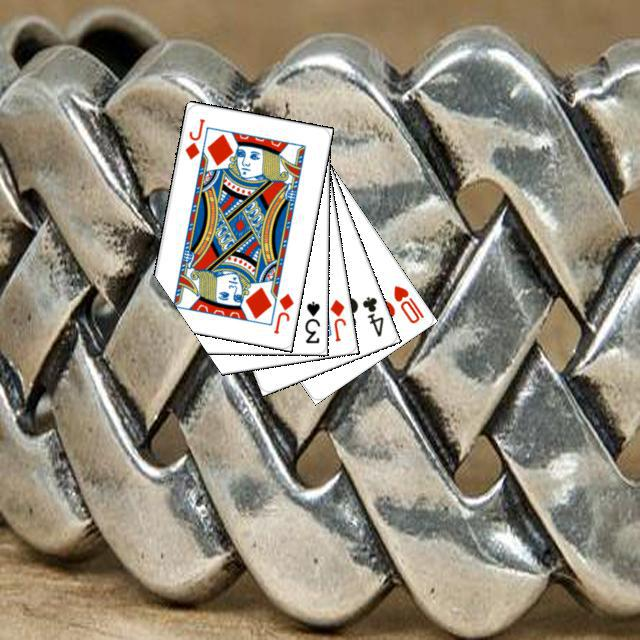10h: (388, 280, 426, 325)
3s: (300, 296, 322, 345)
4c: (357, 291, 385, 338)
Jd: (268, 288, 295, 336), (180, 114, 207, 161), (325, 294, 348, 343)
